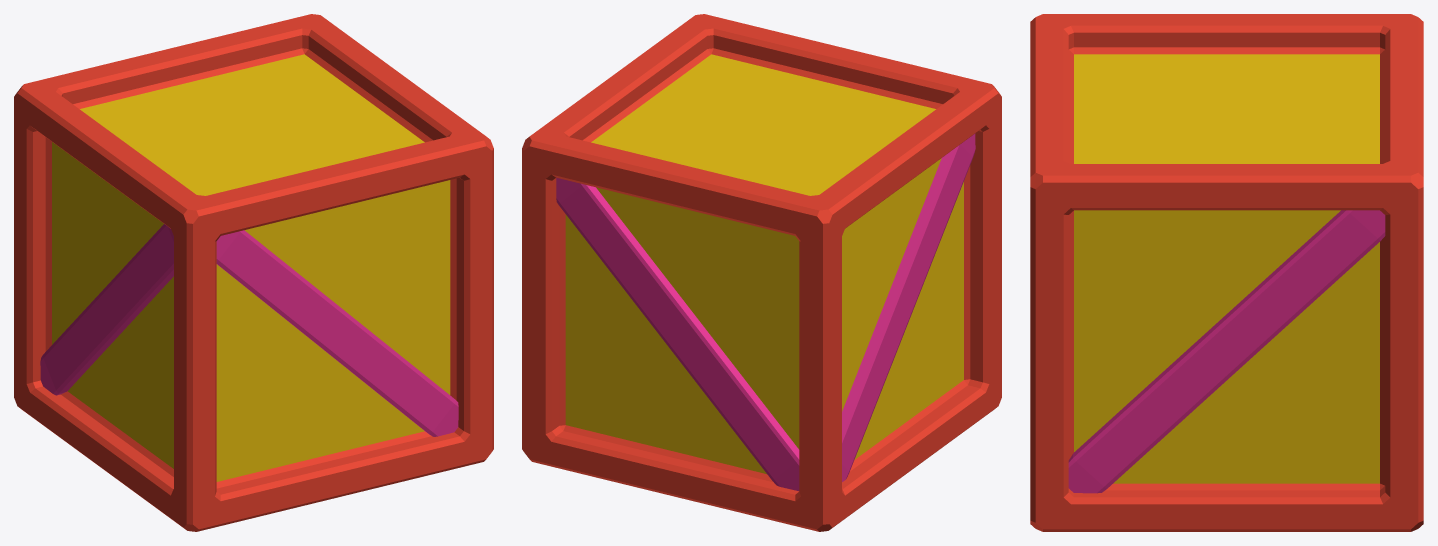
The model's file is BoxV1UVID.fbx.
3 renders of one model, left to right at view 1: azimuth 30°, elevation 25°; view 2: azimuth 150°, elevation 25°; view 3: azimuth 270°, elevation 25°, orthographic. The views are drawn at different scales.
Visible parts, largest first — view 1: Box, Plank.006, Plank.004; view 2: Box, Plank.005, Plank.004; view 3: Box, Plank.
Boxes of the visible parts, <box> form: Box: <box>14,14,493,531</box>; Plank.006: <box>216,230,458,436</box>; Plank.004: <box>40,224,173,395</box>; Box: <box>522,14,1001,531</box>; Plank.005: <box>556,177,799,491</box>; Plank.004: <box>842,133,975,481</box>; Box: <box>1030,14,1423,531</box>; Plank: <box>1068,210,1385,493</box>.
Size of the model in its own units: 200 by 200 by 200.
